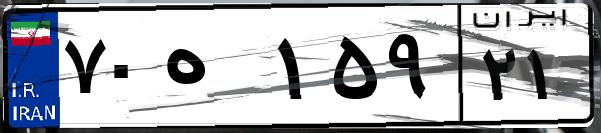0: (110, 28, 158, 98)
1: (270, 28, 330, 110), (525, 38, 570, 115)
2: (475, 38, 525, 113)
5: (330, 28, 385, 110)
7: (57, 26, 110, 100)
9: (385, 28, 445, 110)
ه: (158, 20, 270, 120)
